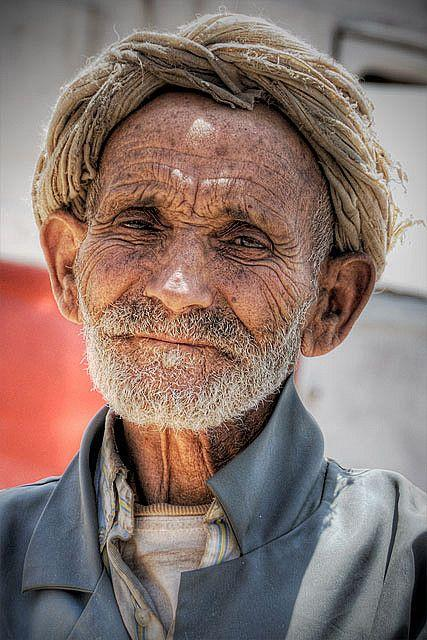crows_feet: (88, 212, 119, 244), (269, 235, 294, 271)
forehead: (208, 165, 267, 197), (133, 135, 187, 161), (128, 154, 176, 178), (128, 176, 152, 204)
frown_line: (174, 212, 210, 235), (168, 196, 190, 224), (185, 175, 201, 212)
gummy_smile: (218, 294, 243, 324), (107, 280, 137, 304)
masseter: (261, 290, 291, 332), (76, 255, 96, 289)
